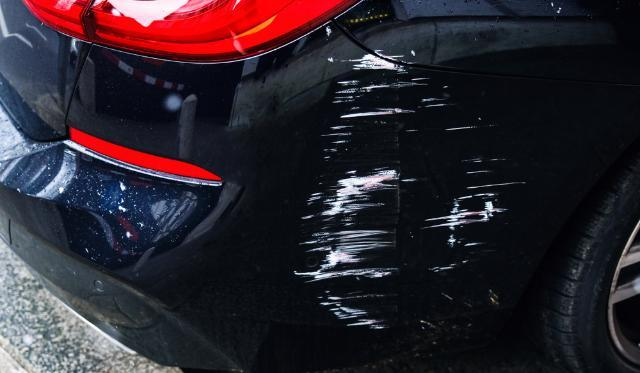scratch: (295, 41, 519, 343)
